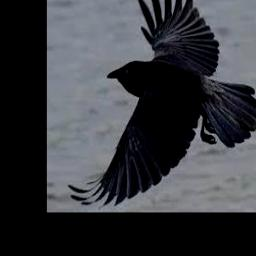Crow: (67, 0, 256, 207)
